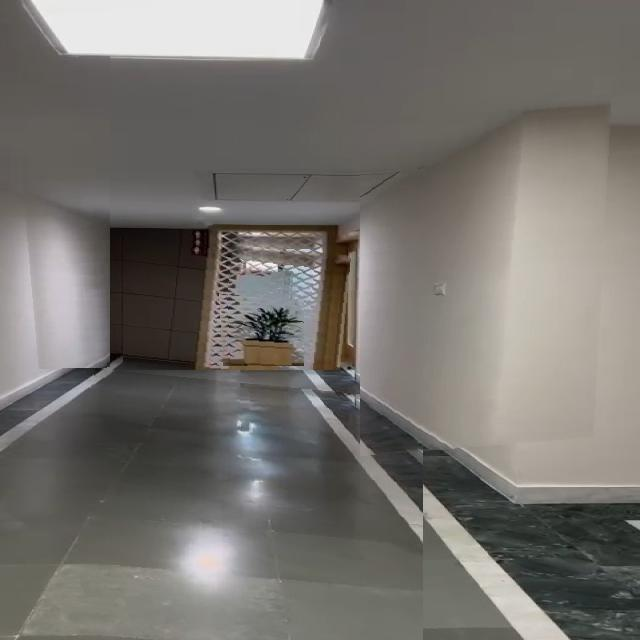door: (123, 234, 351, 370)
floor: (88, 368, 423, 640)
furniture: (219, 294, 304, 366)
wall: (360, 32, 616, 458), (11, 56, 110, 369)
